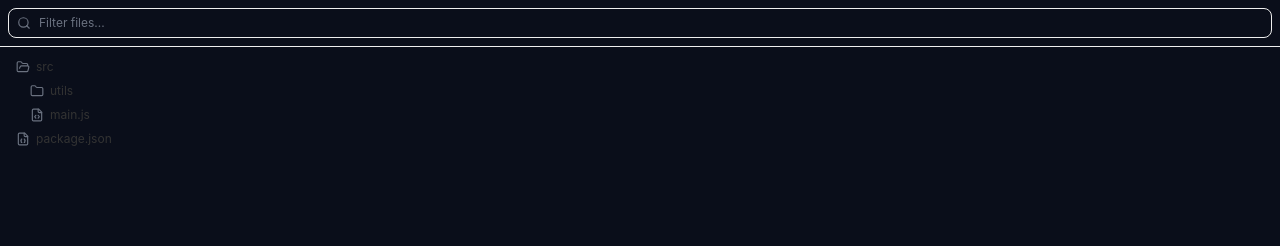
FileTree › shows file contents when a file is clicked
Click the button "package.json" at point(74, 138), box [8,127,1272,151]
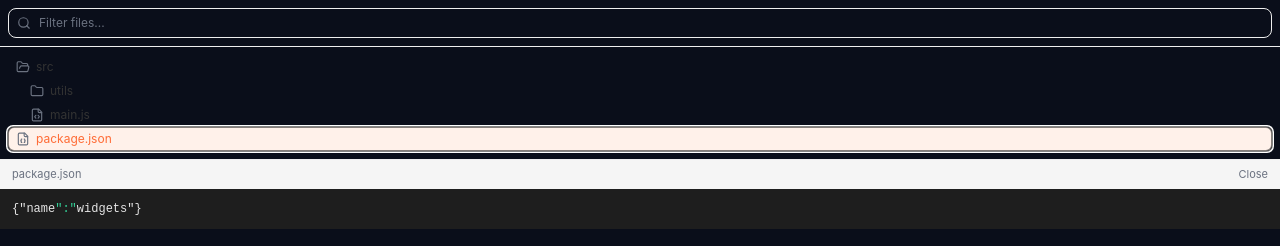
expect the button "Close" is shown: met, box [1238,166,1268,182]
expect the text "{\"name\":\"widgets\"}" is shown: met, box [12,202,142,216]
